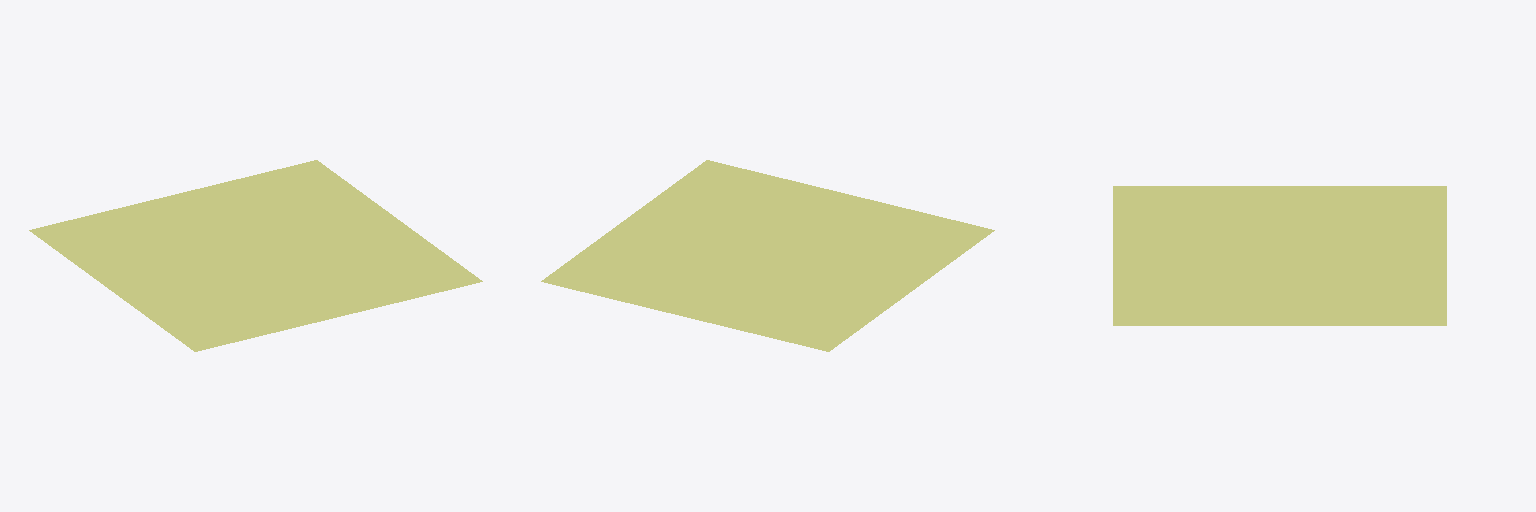
Rendered from Yellow Wall.obj.
3 views of the same model, side by side, from view 1: azimuth 30°, elevation 25°; view 2: azimuth 150°, elevation 25°; view 3: azimuth 270°, elevation 25° (orthographic).
Parts seen in each view (by area): view 1: Yellow_Wall; view 2: Yellow_Wall; view 3: Yellow_Wall.
Part boxes in pixels (left/top/right/bottom): Yellow_Wall: left=29, top=160, right=482, bottom=351; Yellow_Wall: left=541, top=160, right=994, bottom=351; Yellow_Wall: left=1113, top=186, right=1446, bottom=325.
Size of the model in its own units: 108 by 0 by 108.